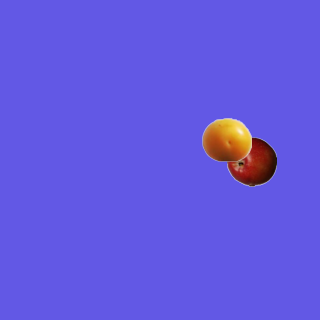Apple Braeburn: (226, 136, 276, 186)
Cherry Wax Yellow: (201, 114, 251, 164)
